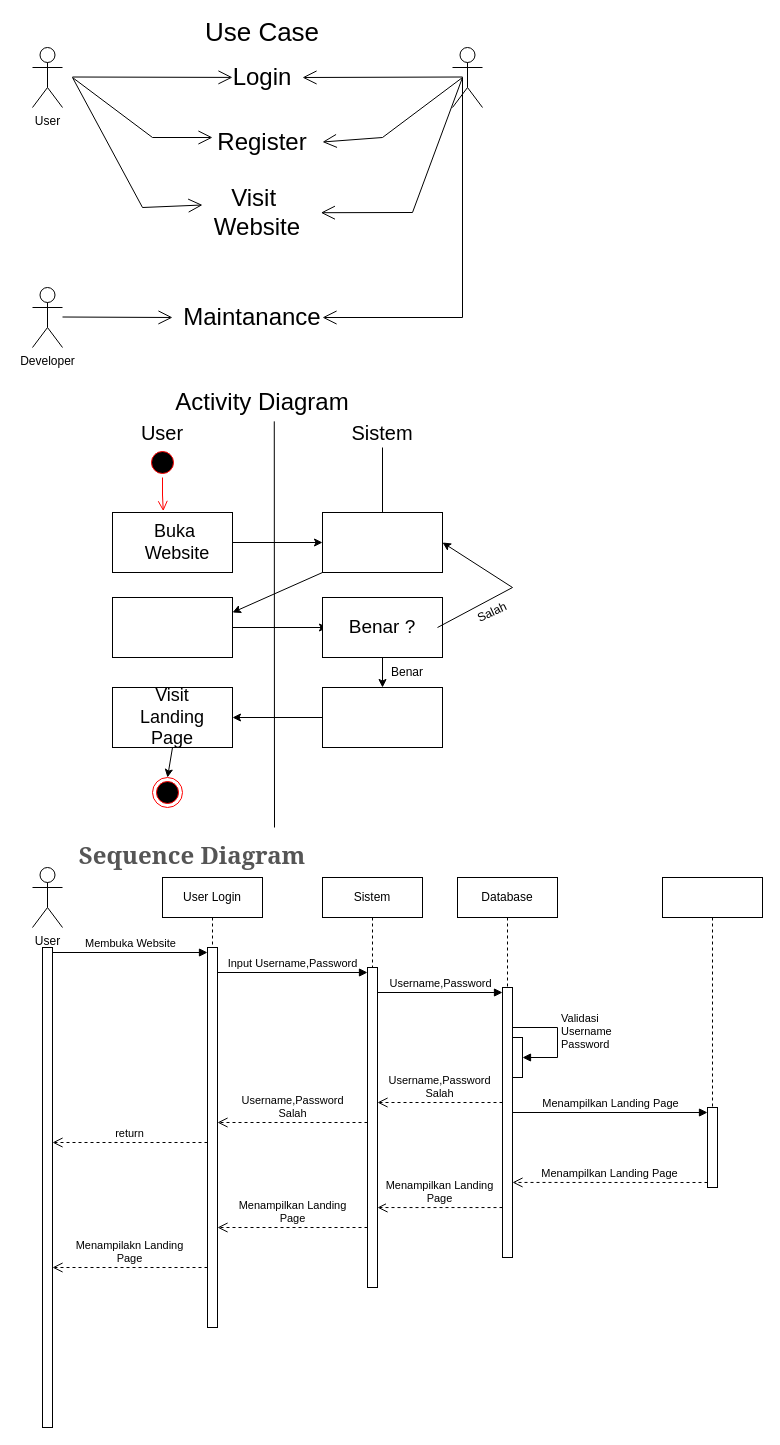
Some shapes in this 780 by 1445 pixel diagram are drawn without their labels. Here are the shapes that lost their labels. From the top down, the box of each, then its label:
(452, 46, 482, 108): Website
(322, 512, 442, 572): Tampilkan Form Login
(112, 596, 232, 658): Isi Form Login
(322, 686, 442, 748): Tampilkan Landing Page
(662, 876, 762, 1108): :Object
